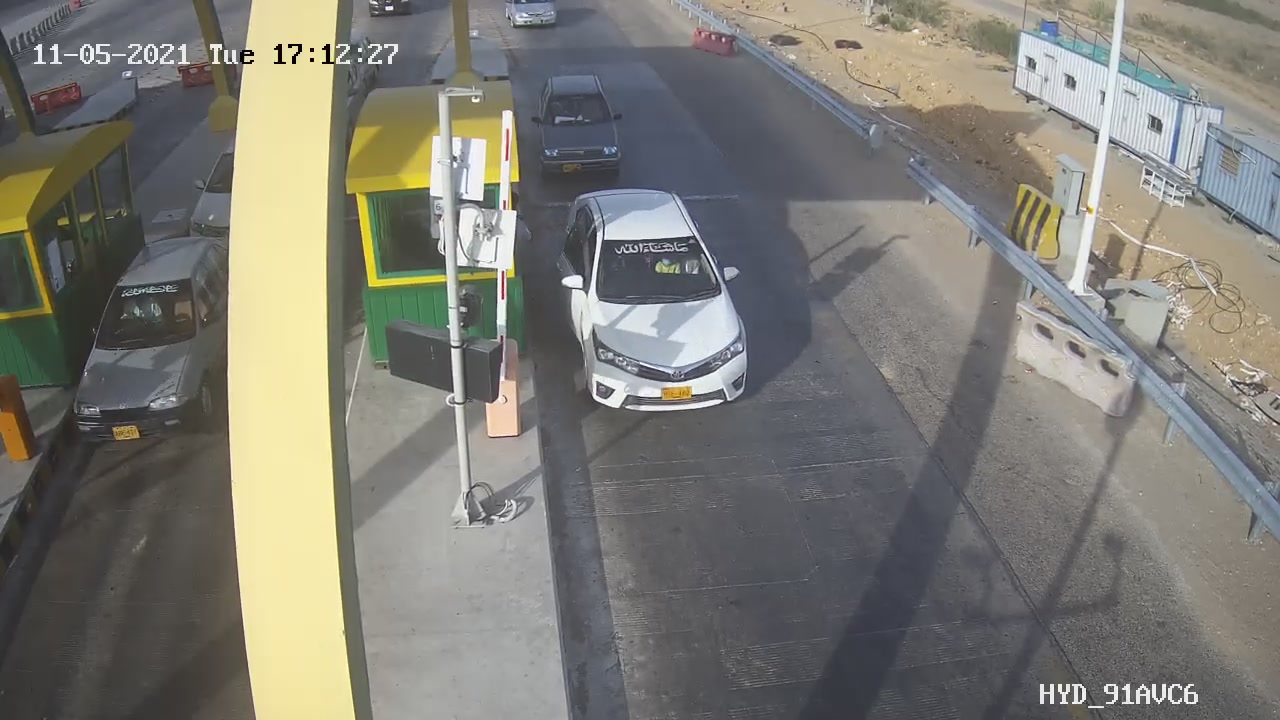F1: (539, 172, 776, 429), (518, 60, 646, 190)
